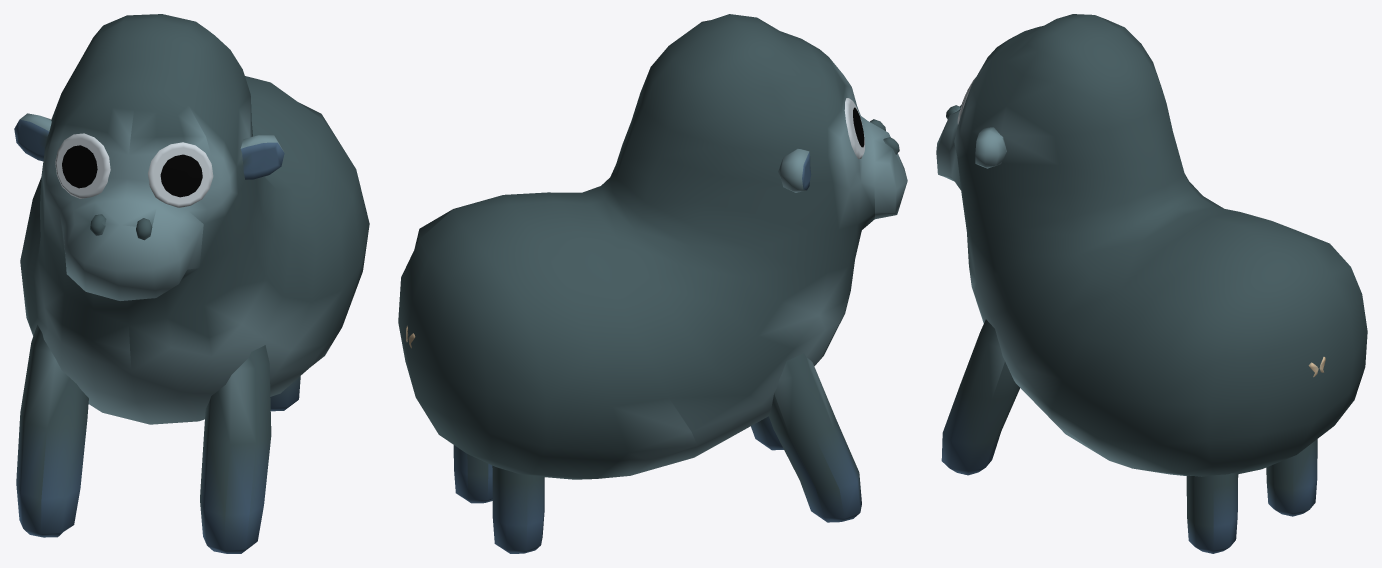
The model's file is Gorilla.glb.
3 renders of one model, left to right at view 1: azimuth 30°, elevation 25°; view 2: azimuth 150°, elevation 25°; view 3: azimuth 270°, elevation 25°, orthographic. The views are drawn at different scales.
Parts seen in each view (by area): view 1: 63; view 2: 63; view 3: 63.
Boxes of the visible parts, <box> form: 63: <box>14,14,369,553</box>; 63: <box>398,14,907,553</box>; 63: <box>936,14,1367,553</box>.
Size of the model in its own units: 0.9294 by 1.09 by 0.9673.
